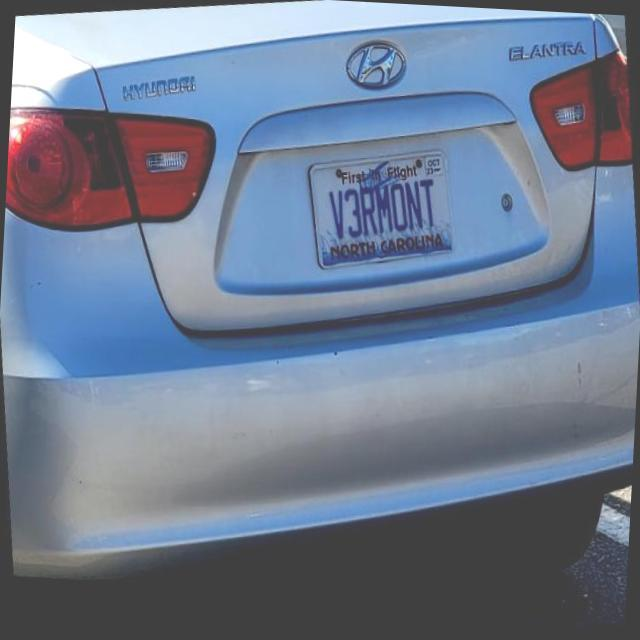license-plate: (305, 173, 472, 279)
